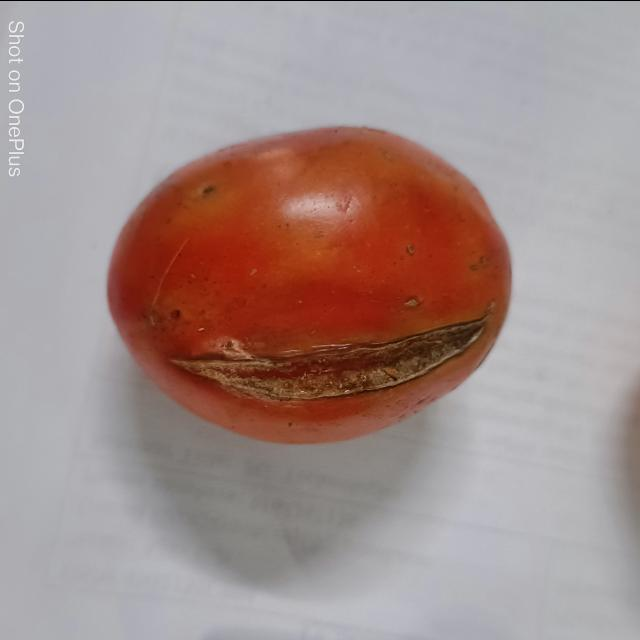tomato_cracking: (159, 316, 491, 408)
